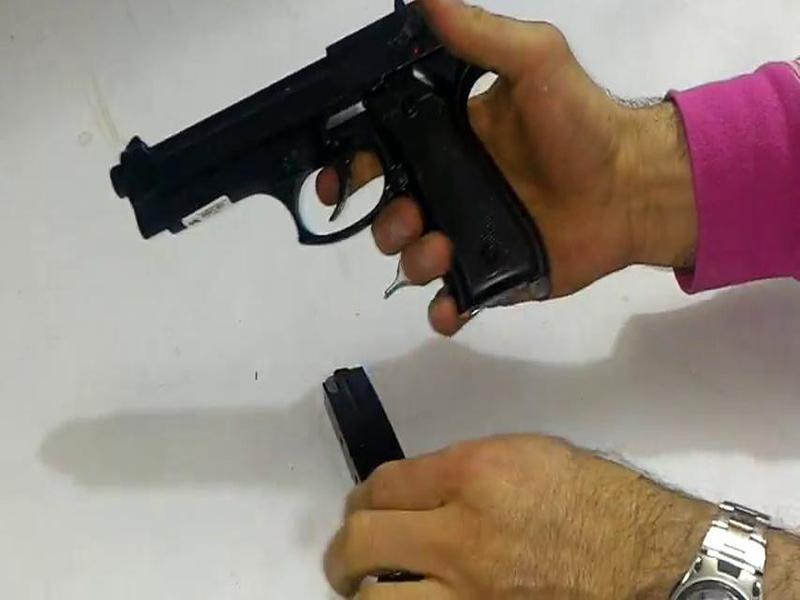Pistola: (94, 4, 581, 334)
